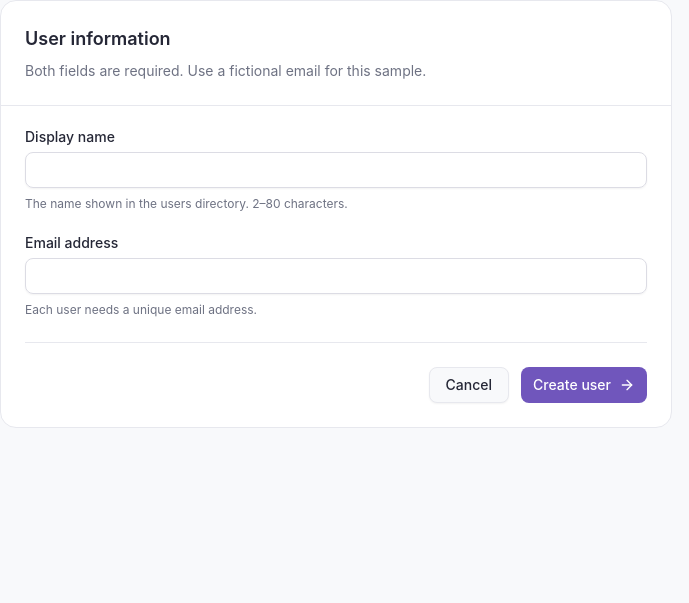
Test: users interface › maps duplicate-email errors onto the form and preserves the draft
The width and height of the screenshot is (689, 603).
In the field labelled "Display name": (336, 170) [25, 152, 647, 188], type "Alex Morgan"
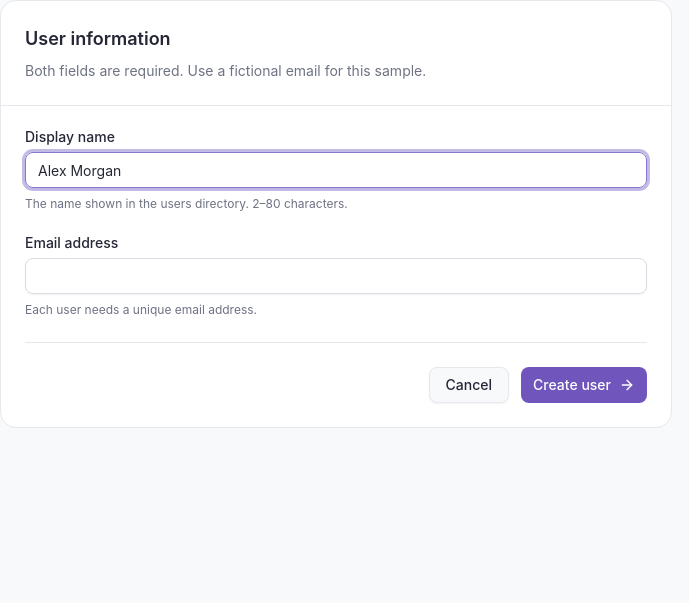
In the field labelled "Email address": (336, 276) [25, 258, 647, 294], type "alex@example.com"
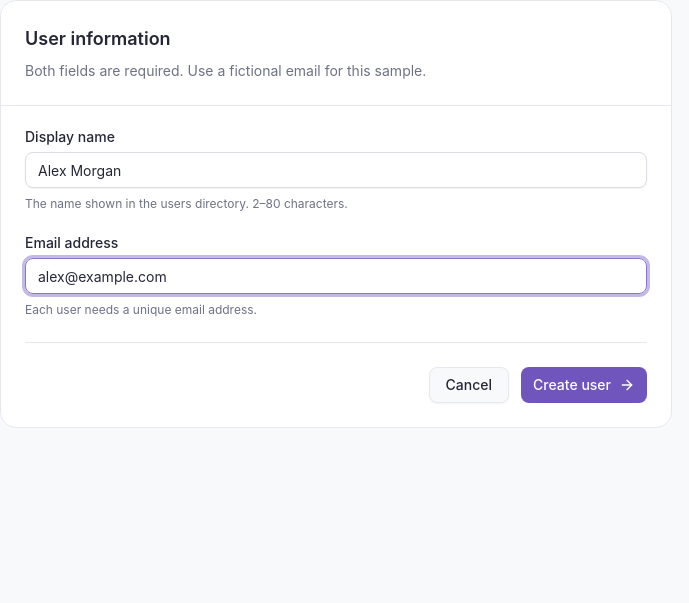
Click the button "Create user": (584, 385) [521, 367, 647, 403]
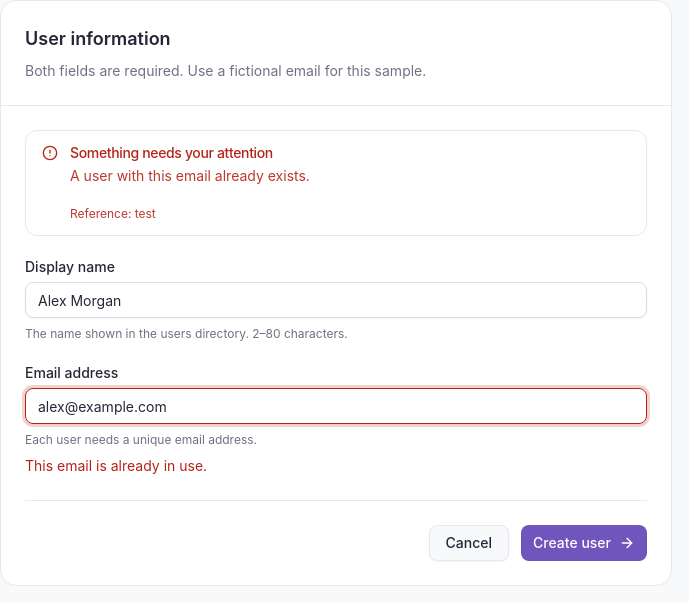
Now the text "This email is already in use." is shown, box [25, 457, 207, 474]
